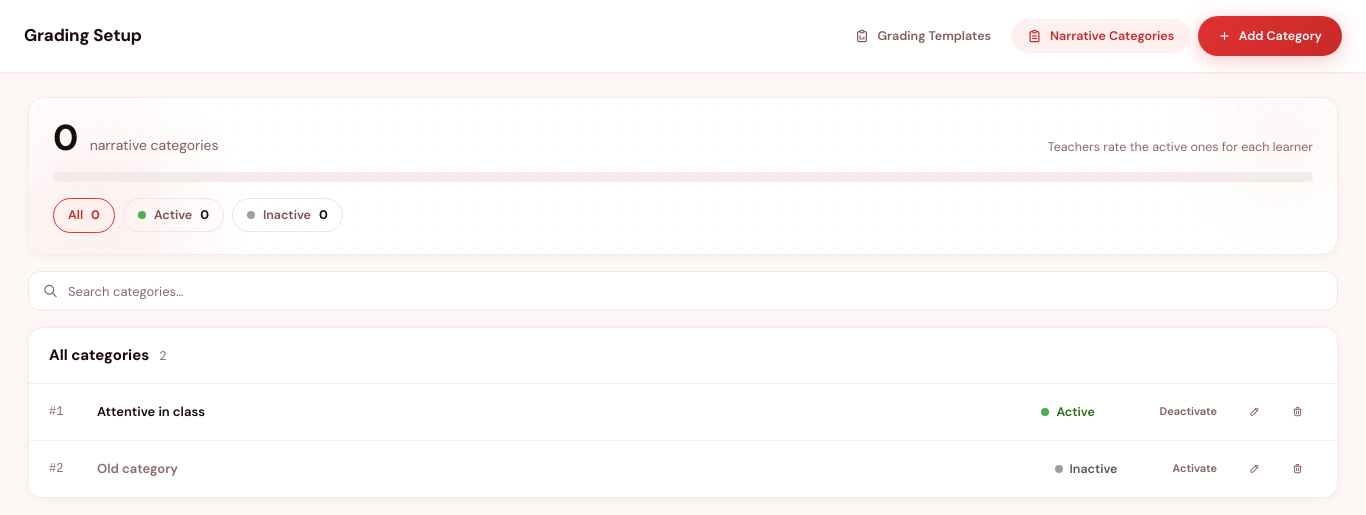
Test case: Grading setup — narrative categories › counts active and inactive categories, and filters by it
Expected: the text "Attentive in class" is shown, top-left (97, 403), bottom-right (205, 420)
Expected: the button with aria-label "All 2" is shown, top-left (53, 198), bottom-right (115, 232)
Click the button with aria-label "Inactive 1".
click(287, 215)  # box top-left (232, 198), bottom-right (343, 232)
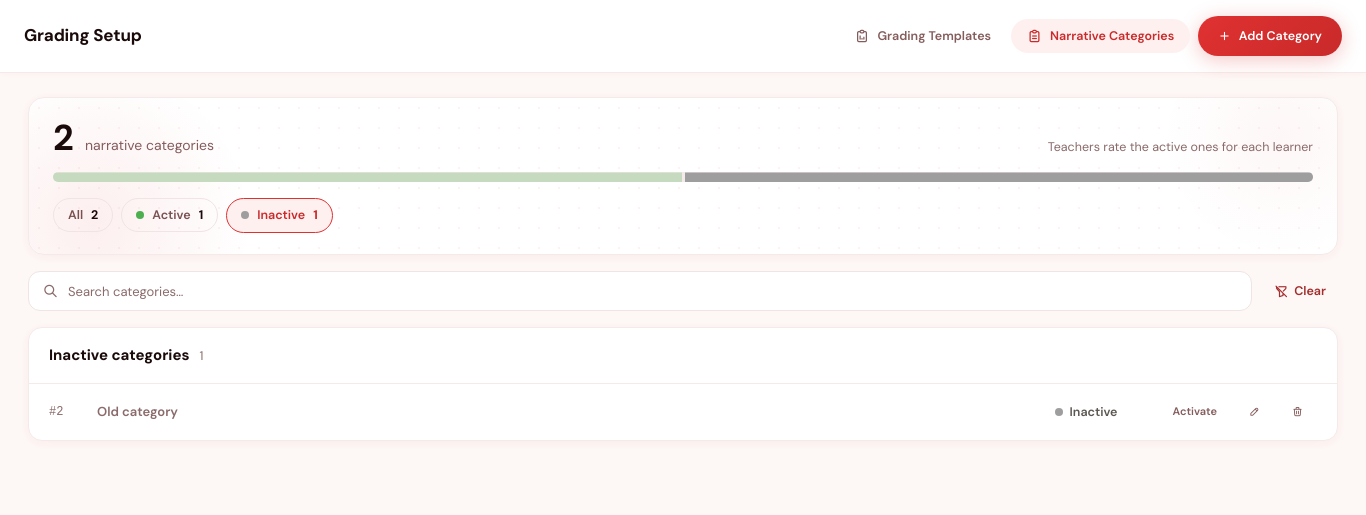
Expected: the text "Old category" is shown, top-left (97, 403), bottom-right (178, 420)
Expected: the text "Attentive in class" is gone
Expected: the heading "Inactive categories" is shown, top-left (49, 344), bottom-right (189, 367)
